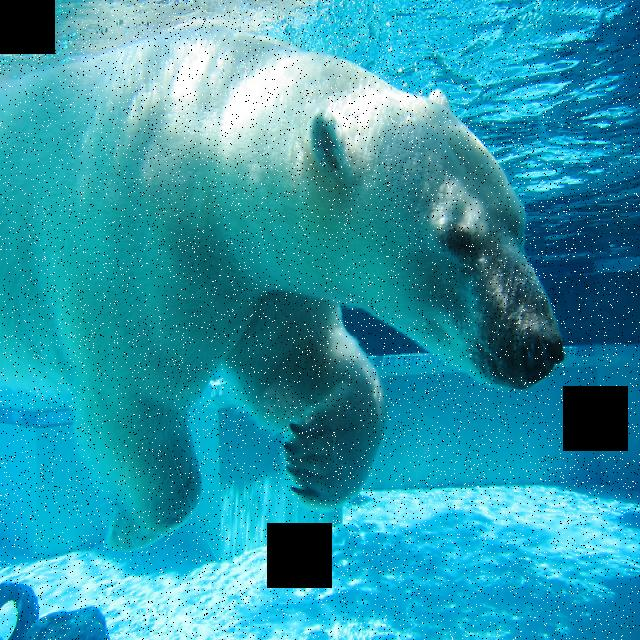Bear: (0, 49, 570, 552)
